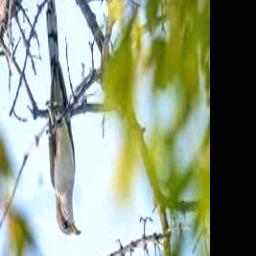Cuckoo: (46, 0, 81, 237)
